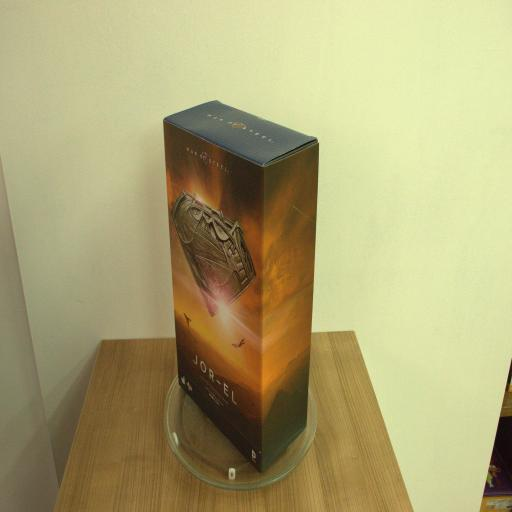superman: (164, 100, 319, 465)
